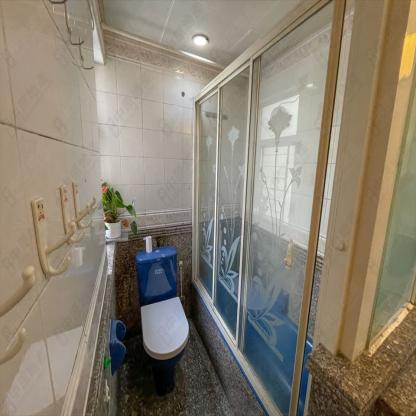Toilet: (136, 244, 190, 394)
Water Cubicle: (192, 0, 348, 415)
